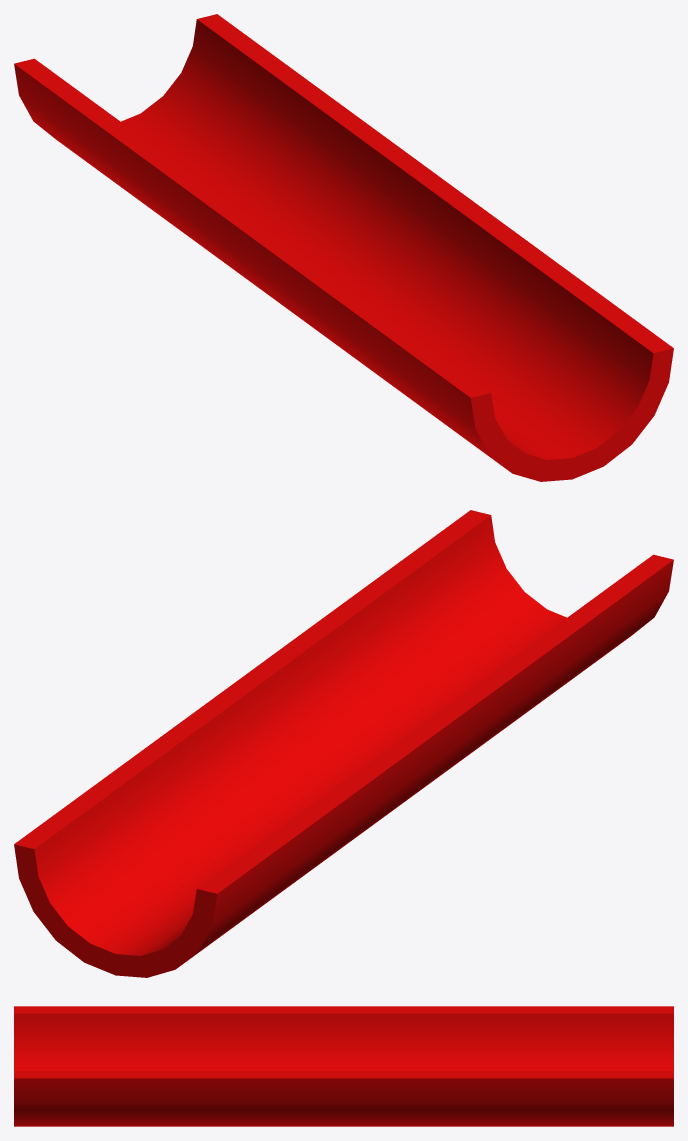
Rendered from Vessel_Artery_Straight.fbx.
The picture shows the model from 3 angles, top to bottom: view 1: azimuth 30°, elevation 25°; view 2: azimuth 150°, elevation 25°; view 3: azimuth 270°, elevation 25°; orthographic projection. The views are drawn at different scales.
Visible parts, largest first — view 1: Maya_Organ_Map_Vessels:pPipe4; view 2: Maya_Organ_Map_Vessels:pPipe4; view 3: Maya_Organ_Map_Vessels:pPipe4.
Boxes of the visible parts, bbox=[...] form: Maya_Organ_Map_Vessels:pPipe4: bbox=[14, 14, 673, 481]; Maya_Organ_Map_Vessels:pPipe4: bbox=[14, 510, 673, 977]; Maya_Organ_Map_Vessels:pPipe4: bbox=[14, 1006, 673, 1126].
Size of the model in its own units: 2.51 by 1.25 by 9.75.
